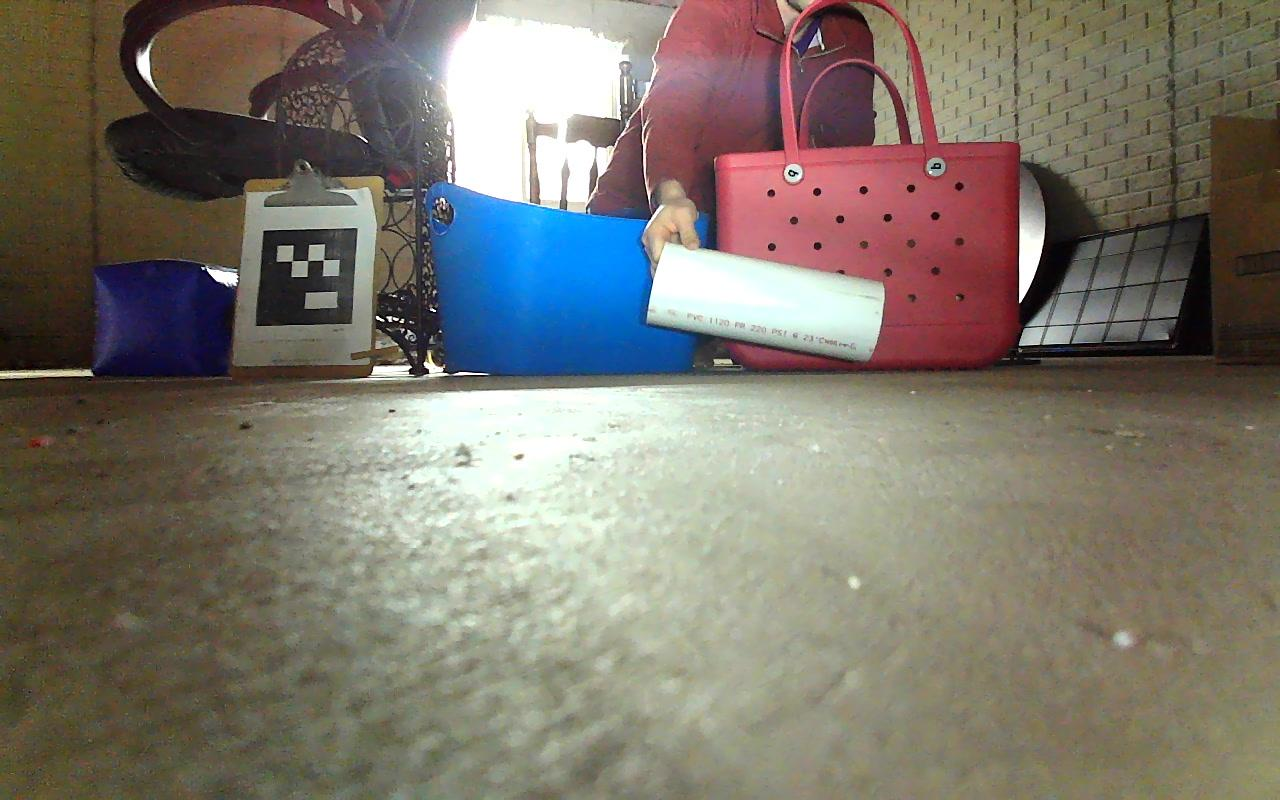coral: (639, 244, 893, 365)
